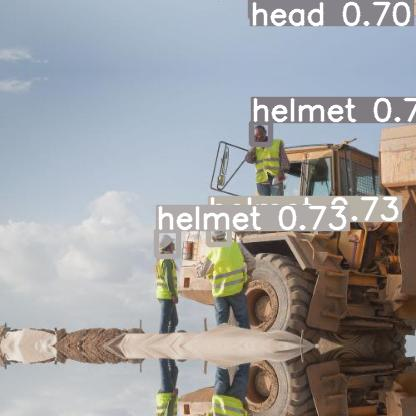head: (250, 0, 270, 17)
helmet: (156, 230, 178, 256), (208, 221, 229, 244), (251, 122, 270, 144)
